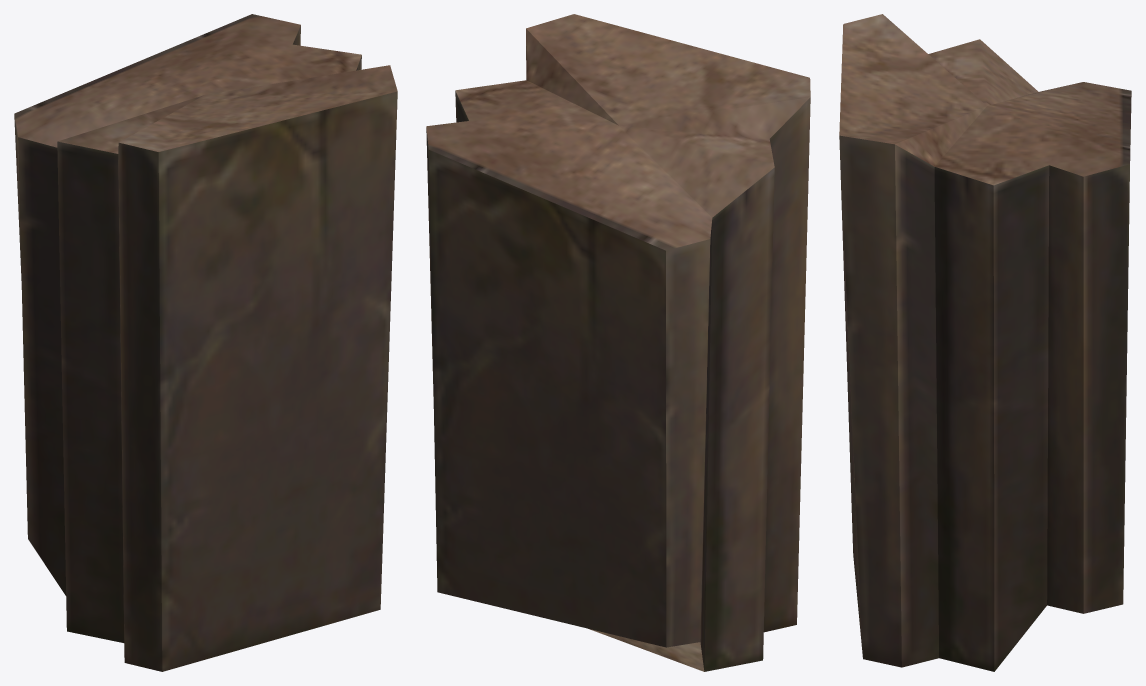
Rendered from blsd_4zhuzi_04.FBX.
3 renders of one model, left to right at view 1: azimuth 30°, elevation 25°; view 2: azimuth 150°, elevation 25°; view 3: azimuth 270°, elevation 25°, orthographic.
Visible parts, largest first — view 1: blsd_4zhuzi_04; view 2: blsd_4zhuzi_04; view 3: blsd_4zhuzi_04.
Part boxes in pixels (left/top/right/bottom): blsd_4zhuzi_04: left=14, top=14, right=397, bottom=671; blsd_4zhuzi_04: left=426, top=14, right=810, bottom=671; blsd_4zhuzi_04: left=839, top=14, right=1131, bottom=671.
Bounding box in the file's own units: 163 × 265 × 132.
